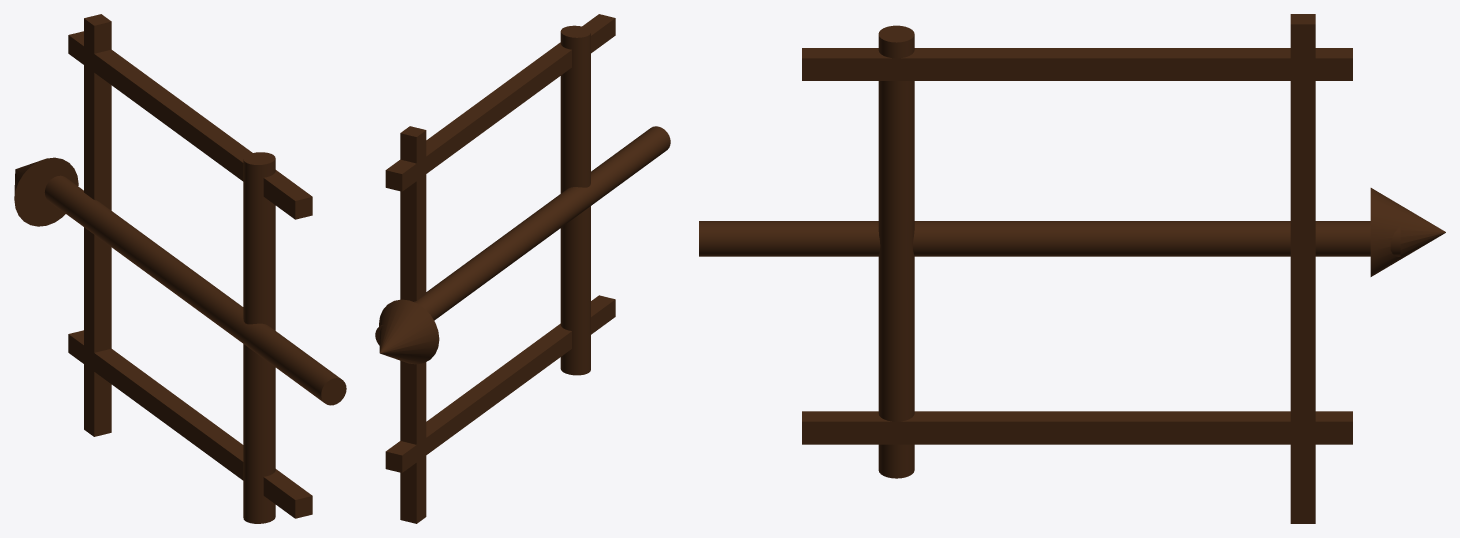
Rendered from Bow.fbx.
3 renders of one model, left to right at view 1: azimuth 30°, elevation 25°; view 2: azimuth 150°, elevation 25°; view 3: azimuth 270°, elevation 25°, orthographic. The views are drawn at different scales.
Parts seen in each view (by area): view 1: block (×3), cylinder (×2), cone; view 2: block (×3), cylinder (×2), cone; view 3: block (×3), cylinder (×2), cone.
Part boxes in pixels (x1,y1,x2,y2): block (×3): (68, 14, 312, 518); cylinder (×2): (44, 152, 346, 523); cone: (14, 157, 78, 226); block (×3): (385, 14, 615, 523); cylinder (×2): (375, 25, 670, 375); cone: (379, 299, 439, 364); block (×3): (802, 14, 1352, 523); cylinder (×2): (699, 25, 1400, 478); cone: (1370, 188, 1445, 276).
Size of the model in its own units: 1.8 by 11 by 14.9.
